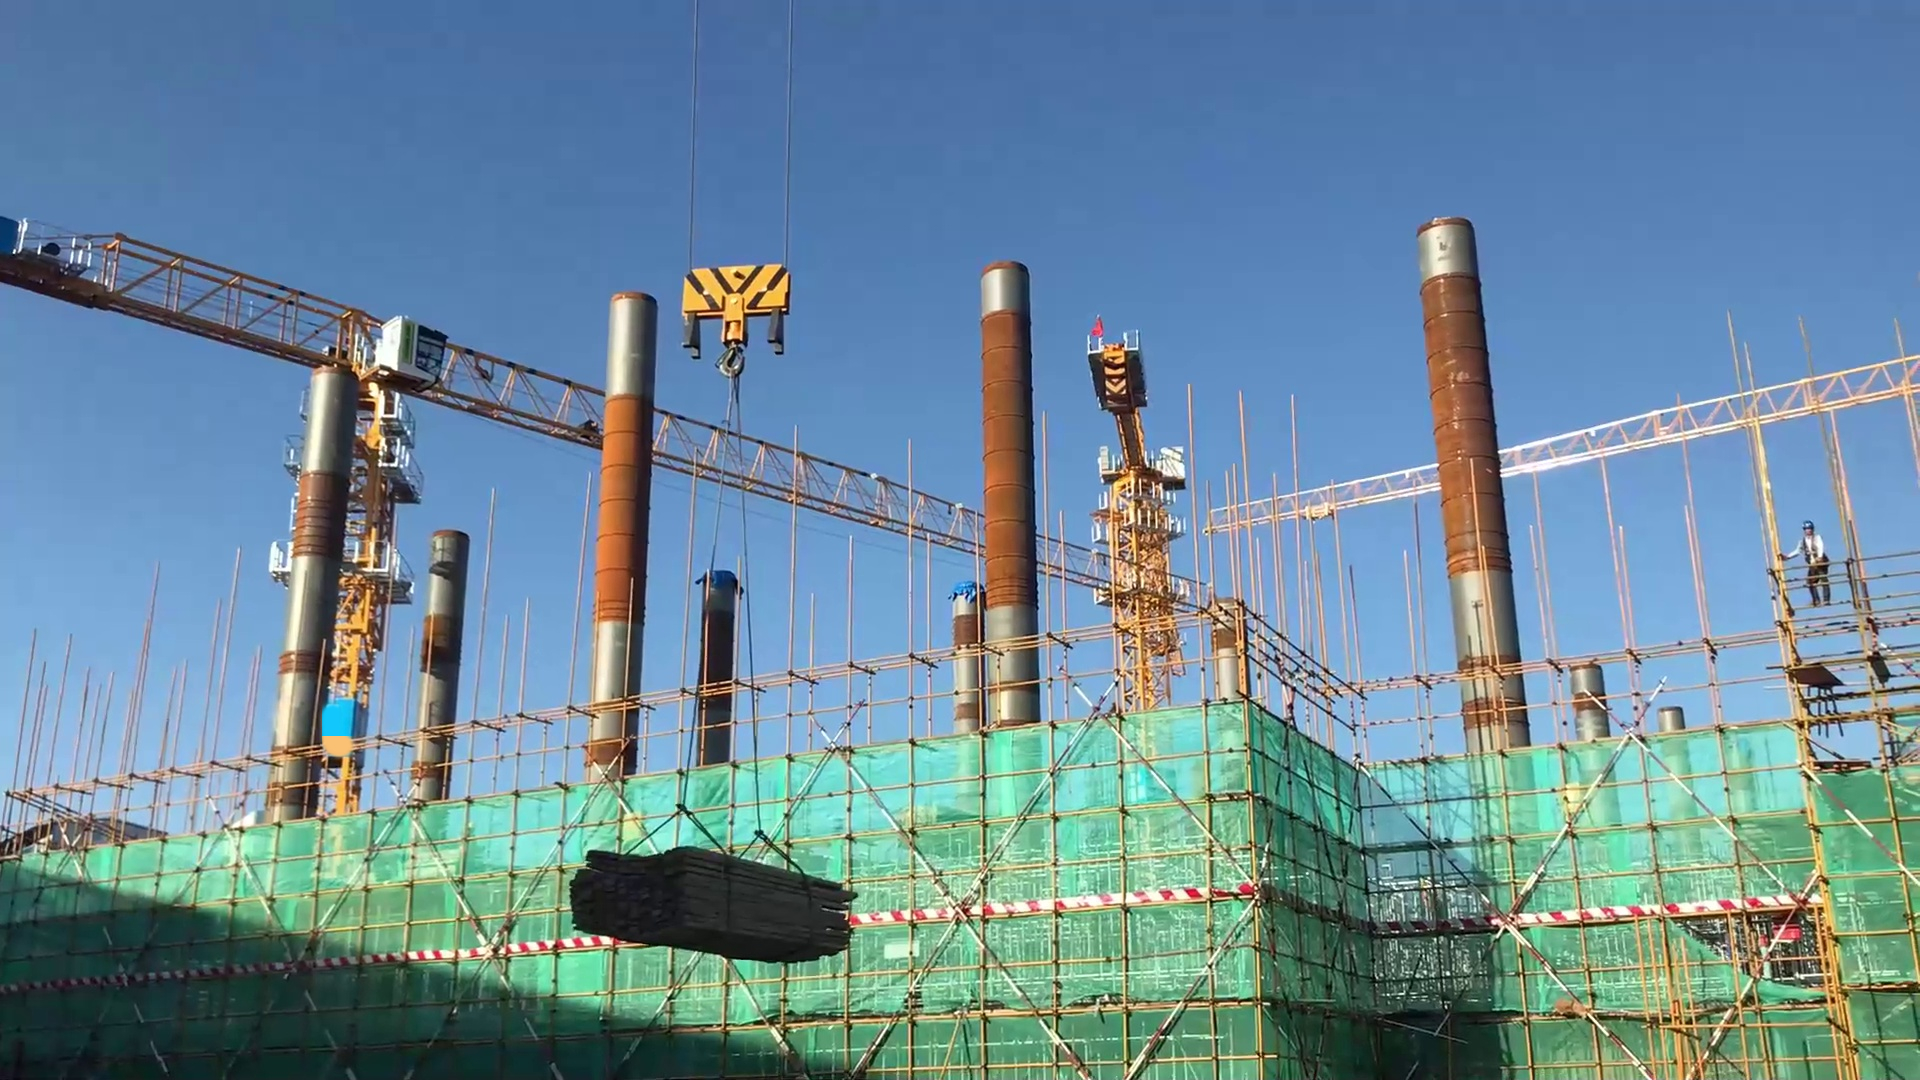helmet: (1800, 518, 1819, 540)
hook: (685, 252, 791, 372)
person: (1779, 517, 1829, 606)
wood: (569, 834, 862, 967)
